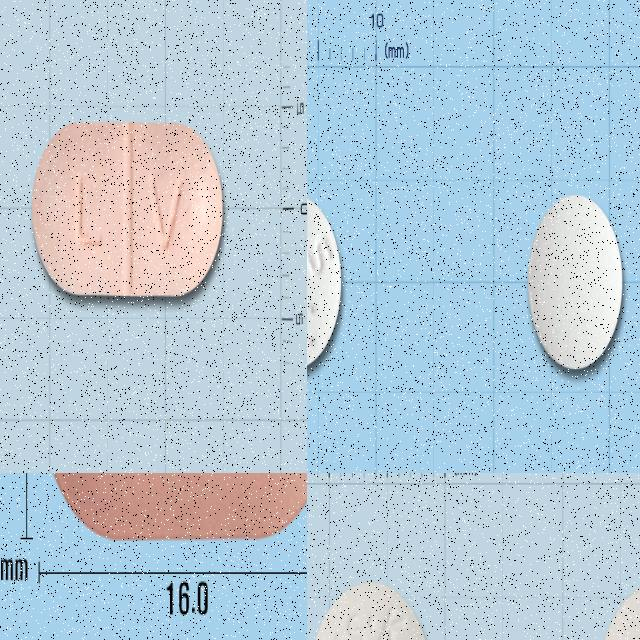Korus Ascorbic Acid: (307, 580, 437, 640)
Levofexin: (38, 473, 307, 537)
Levostar: (32, 124, 224, 296)
Procin Tab: (529, 194, 622, 369), (307, 195, 342, 370)
